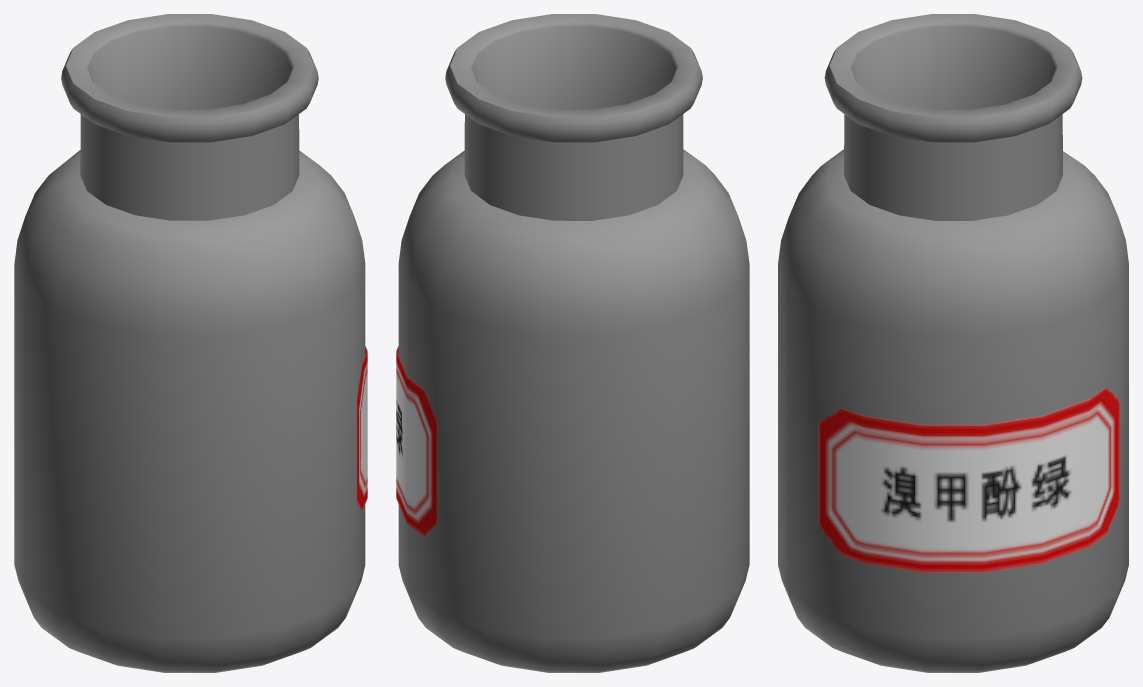
The model's file is SM_溴甲酚绿.fbx.
3 views of the same model, side by side, from view 1: azimuth 30°, elevation 25°; view 2: azimuth 150°, elevation 25°; view 3: azimuth 270°, elevation 25° (orthographic).
Visible parts, largest first — view 1: SM_溴甲酚绿; view 2: SM_溴甲酚绿; view 3: SM_溴甲酚绿.
Boxes of the visible parts, <box> form: SM_溴甲酚绿: <box>14,14,367,672</box>; SM_溴甲酚绿: <box>396,14,749,672</box>; SM_溴甲酚绿: <box>778,14,1128,672</box>.
Bounding box in the file's own units: 0.0455 × 0.0789 × 0.0459.
